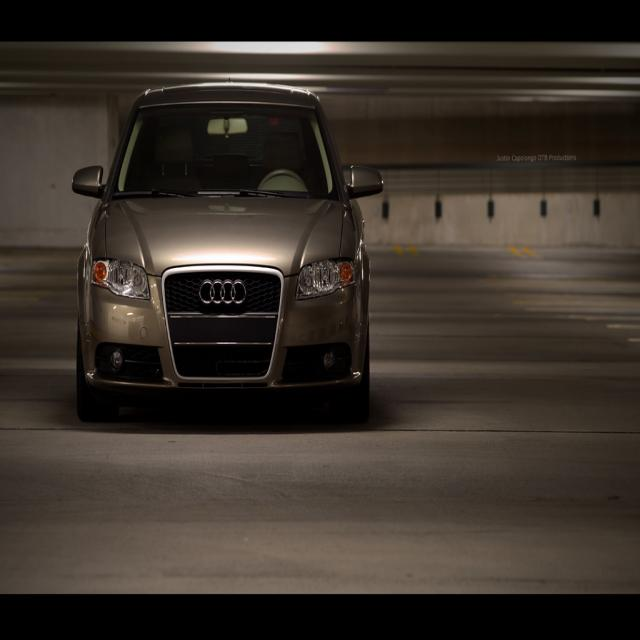car: (74, 85, 383, 409)
